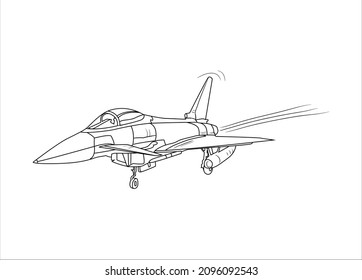airplane: (32, 74, 278, 191)
